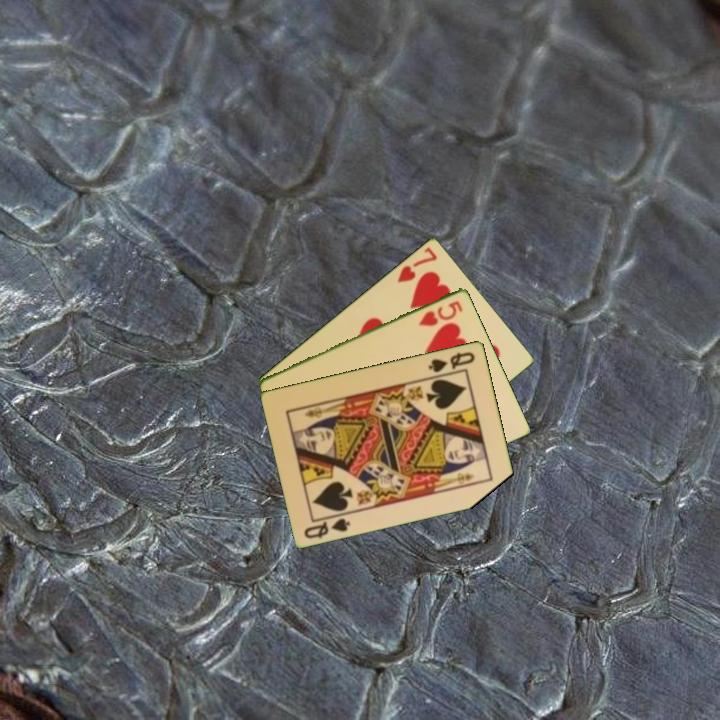5h: (415, 297, 466, 329)
7h: (394, 243, 440, 285)
Qs: (301, 510, 353, 541), (425, 348, 478, 375)
